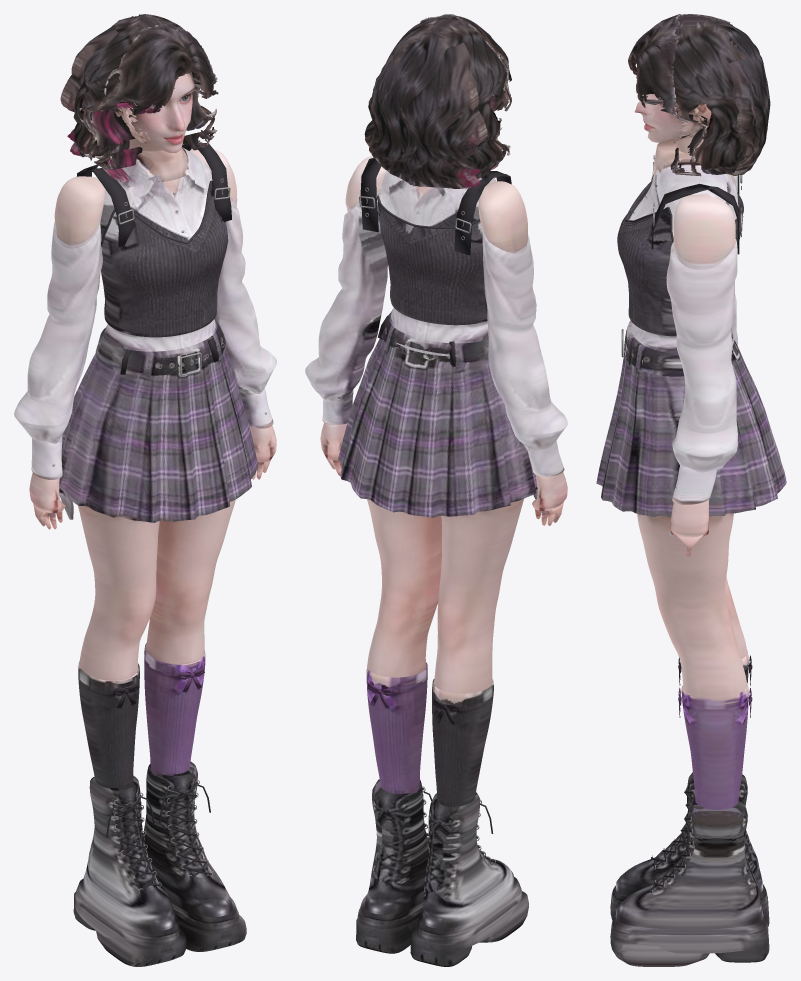
File: passer-06.glb
3 renders of one model, left to right at view 1: azimuth 30°, elevation 25°; view 2: azimuth 150°, elevation 25°; view 3: azimuth 270°, elevation 25°, orthographic.
Parts seen in each view (by area): view 1: 紫灰格纹 · 十六片压褶裙, 针织背心 · 立体V领与背片, 右腿 · 膝髌与膝窝, 右袖 · 斜开肩灯笼袖, 左腿 · 膝髌与膝窝, 右靴 · 皮革筒与圆头, 左靴 · 皮革筒与圆头, 衬衣 · 衣身, 额前与鬓发 · 原画边界体积, 左长袜, 左袖 · 斜开肩灯笼袖, 右长袜 (+19 smaller); view 2: 紫灰格纹 · 十六片压褶裙, 后脑及后发 · 闭合体积, 右腿 · 膝髌与膝窝, 右袖 · 斜开肩灯笼袖, 左腿 · 膝髌与膝窝, 针织背心 · 立体V领与背片, 左袖 · 斜开肩灯笼袖, 右靴 · 皮革筒与圆头, 左靴 · 皮革筒与圆头, 衬衣 · 衣身, 左长袜, 右长袜 (+19 smaller); view 3: 紫灰格纹 · 十六片压褶裙, 左腿 · 膝髌与膝窝, 左袖 · 斜开肩灯笼袖, 左靴 · 皮革筒与圆头, 左侧鬓发至后枕 · 轮廓与耳部开口, 左长袜, 针织背心 · 立体V领与背片, 后脑及后发 · 闭合体积, 左肩与上臂, 左靴 · 双层厚沿, 衬衣 · 衣身, 右靴 · 皮革筒与圆头 (+12 smaller).
Boxes of the visible parts, left/top/right/bottom form: 紫灰格纹 · 十六片压褶裙: left=59, top=348, right=258, bottom=522; 针织背心 · 立体V领与背片: left=101, top=181, right=228, bottom=337; 右腿 · 膝髌与膝窝: left=78, top=505, right=159, bottom=680; 右袖 · 斜开肩灯笼袖: left=14, top=221, right=102, bottom=443; 左腿 · 膝髌与膝窝: left=144, top=499, right=235, bottom=664; 右靴 · 皮革筒与圆头: left=82, top=775, right=175, bottom=930; 左靴 · 皮革筒与圆头: left=143, top=761, right=232, bottom=916; 衬衣 · 衣身: left=100, top=147, right=217, bottom=351; 额前与鬓发 · 原画边界体积: left=79, top=24, right=218, bottom=182; 左长袜: left=144, top=657, right=205, bottom=775; 左袖 · 斜开肩灯笼袖: left=214, top=207, right=276, bottom=393; 右长袜: left=78, top=671, right=139, bottom=788; 紫灰格纹 · 十六片压褶裙: left=338, top=339, right=537, bottom=517; 后脑及后发 · 闭合体积: left=365, top=18, right=487, bottom=188; 右腿 · 膝髌与膝窝: left=434, top=499, right=523, bottom=693; 右袖 · 斜开肩灯笼袖: left=482, top=234, right=567, bottom=451; 左腿 · 膝髌与膝窝: left=366, top=499, right=441, bottom=685; 针织背心 · 立体V领与背片: left=378, top=195, right=487, bottom=325; 左袖 · 斜开肩灯笼袖: left=305, top=200, right=387, bottom=401; 右靴 · 皮革筒与圆头: left=422, top=793, right=514, bottom=928; 左靴 · 皮革筒与圆头: left=365, top=779, right=428, bottom=914; 衬衣 · 衣身: left=380, top=170, right=495, bottom=356; 左长袜: left=366, top=673, right=427, bottom=793; 右长袜: left=432, top=688, right=493, bottom=806; 紫灰格纹 · 十六片压褶裙: left=596, top=330, right=786, bottom=517; 左腿 · 膝髌与膝窝: left=637, top=513, right=747, bottom=704; 左袖 · 斜开肩灯笼袖: left=666, top=239, right=738, bottom=472; 左靴 · 皮革筒与圆头: left=615, top=798, right=763, bottom=929; 左侧鬓发至后枕 · 轮廓与耳部开口: left=643, top=19, right=763, bottom=174; 左长袜: left=681, top=689, right=748, bottom=809; 针织背心 · 立体V领与背片: left=617, top=183, right=743, bottom=336; 后脑及后发 · 闭合体积: left=677, top=15, right=770, bottom=175; 左肩与上臂: left=673, top=194, right=735, bottom=269; 左靴 · 双层厚沿: left=610, top=913, right=768, bottom=953; 衬衣 · 衣身: left=627, top=158, right=738, bottom=354; 右靴 · 皮革筒与圆头: left=615, top=772, right=763, bottom=896.
Bounding box in the file's own units: 0.5217 × 1.77 × 0.3332.
184 materials, 172 textured.
